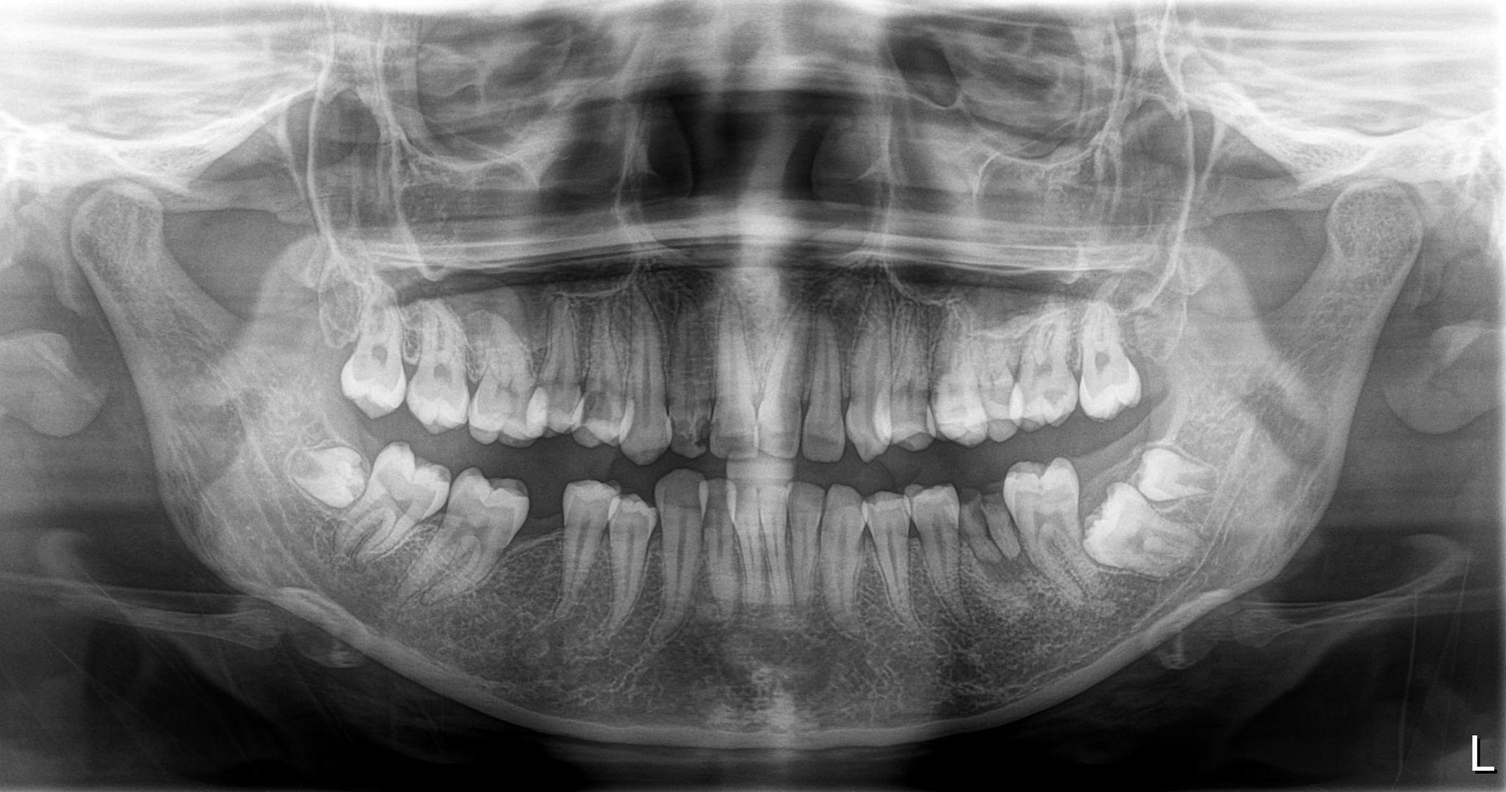Dental Caries: (689, 408, 751, 455), (581, 386, 623, 436)
Impacted Third Molar: (1092, 492, 1192, 574), (1138, 441, 1224, 498), (278, 448, 364, 505)
Missing Tooth: (517, 507, 571, 602)
Retained Root: (958, 483, 1016, 581)
